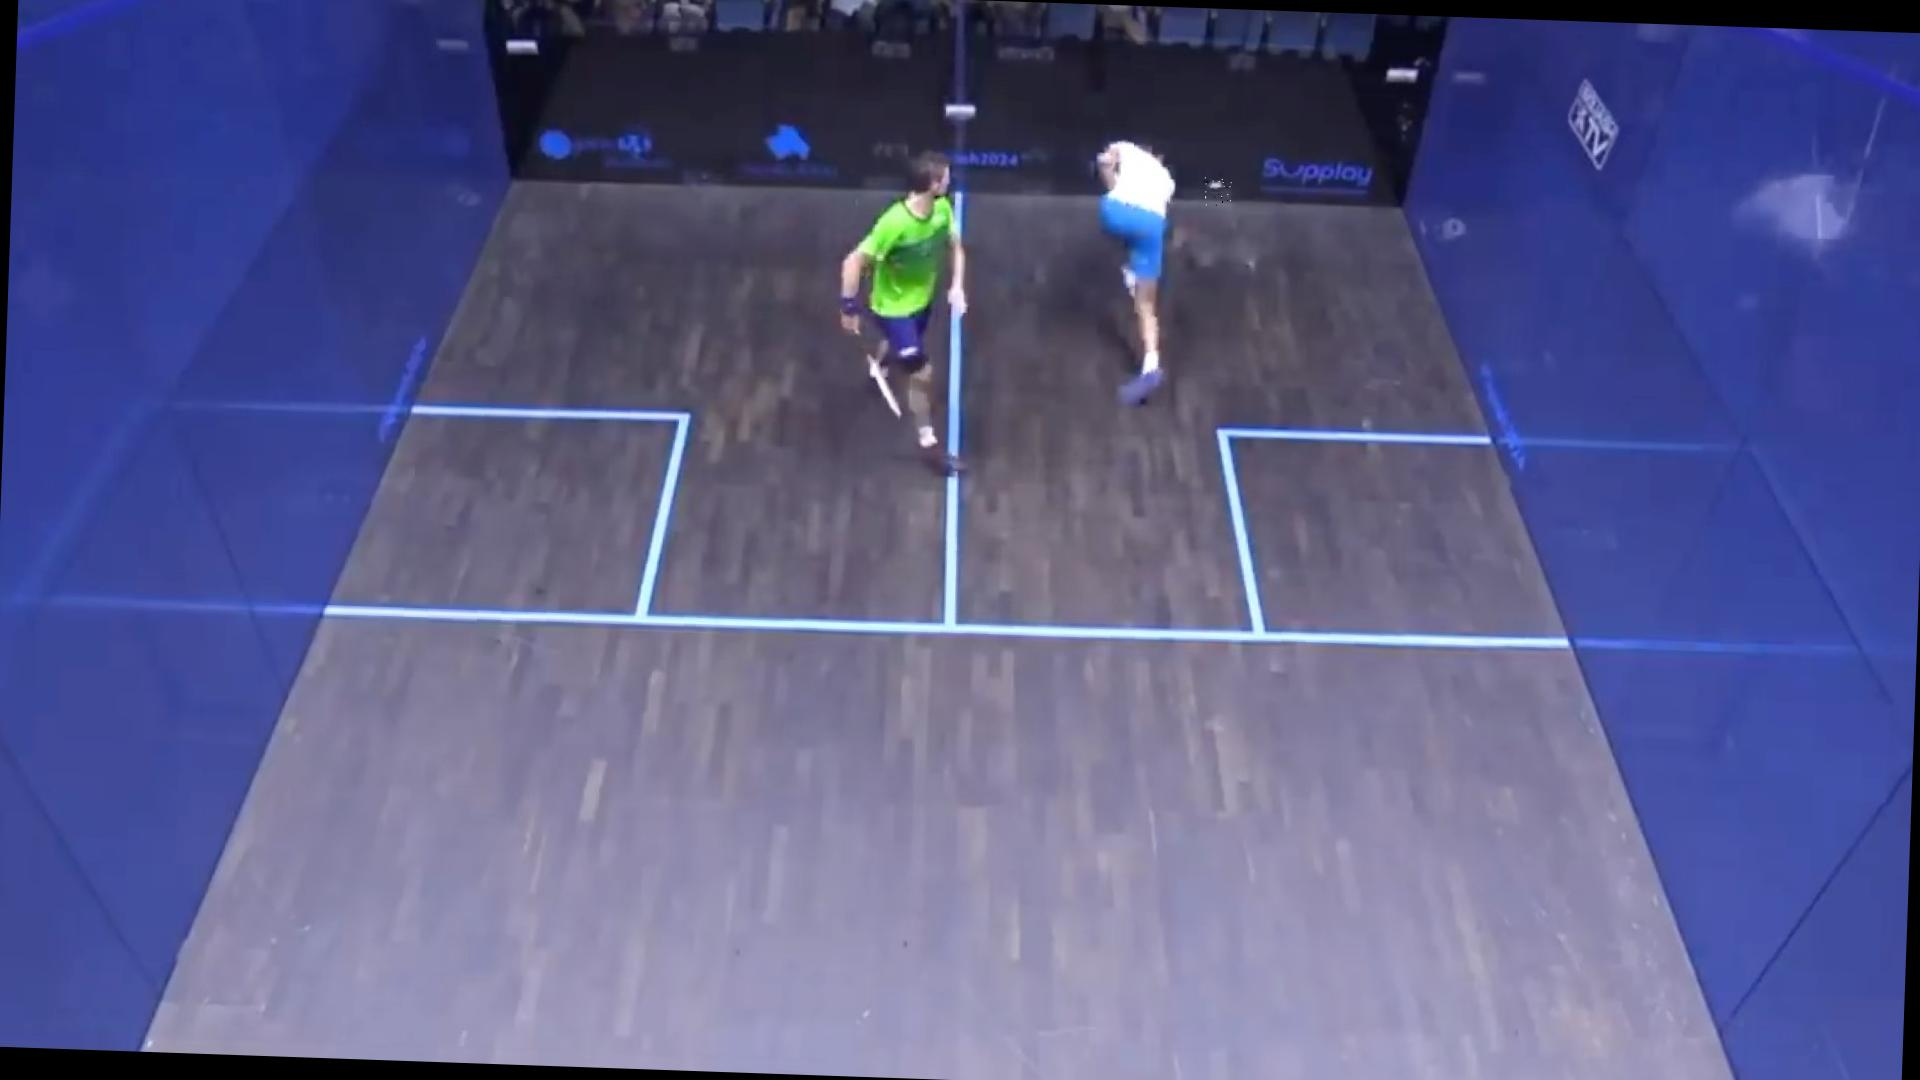Squash-Ball: (1203, 174, 1232, 207)
